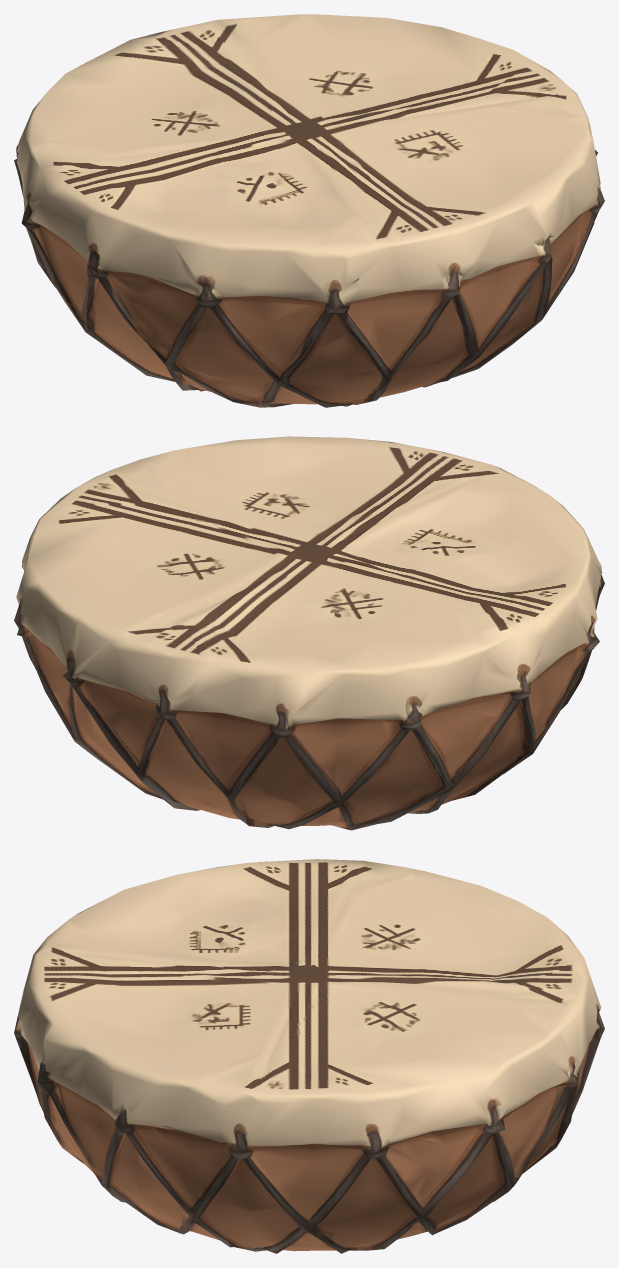
The model's file is c4a95dc8-e1e3-4474-9898-3a060ad4c042_model_url.glb.
3 renders of one model, top to bottom at view 1: azimuth 30°, elevation 25°; view 2: azimuth 150°, elevation 25°; view 3: azimuth 270°, elevation 25°, orthographic.
Visible parts, largest first — view 1: tripo_node_c4a95dc8-e1e3-4474-9898-3a060ad4c042; view 2: tripo_node_c4a95dc8-e1e3-4474-9898-3a060ad4c042; view 3: tripo_node_c4a95dc8-e1e3-4474-9898-3a060ad4c042.
Part boxes in pixels (left/top/right/bottom): tripo_node_c4a95dc8-e1e3-4474-9898-3a060ad4c042: left=14, top=14, right=604, bottom=407; tripo_node_c4a95dc8-e1e3-4474-9898-3a060ad4c042: left=14, top=436, right=604, bottom=830; tripo_node_c4a95dc8-e1e3-4474-9898-3a060ad4c042: left=14, top=859, right=604, bottom=1253.
Size of the model in its own units: 0.9902 by 0.4123 by 1.
1 material, 1 textured.
